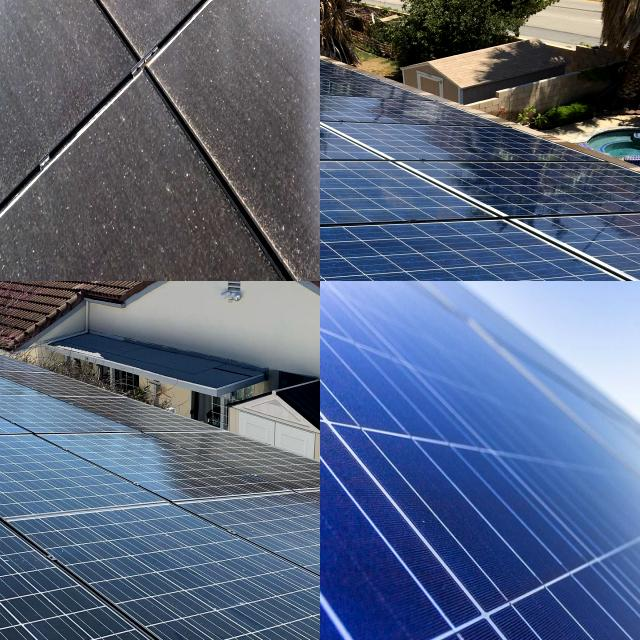crack: (320, 495, 555, 640), (320, 226, 640, 281)
dust: (199, 12, 320, 154), (94, 118, 179, 281), (0, 0, 65, 164), (127, 0, 179, 86)
